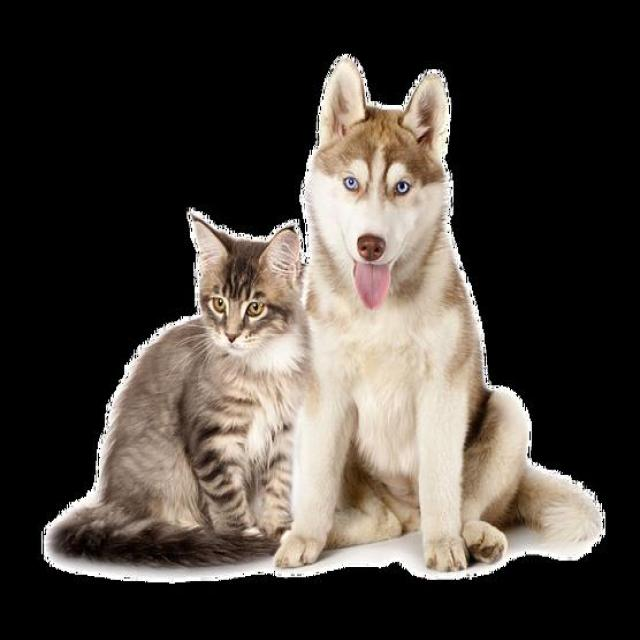cat: (151, 179, 314, 392)
dog: (296, 37, 480, 346)
